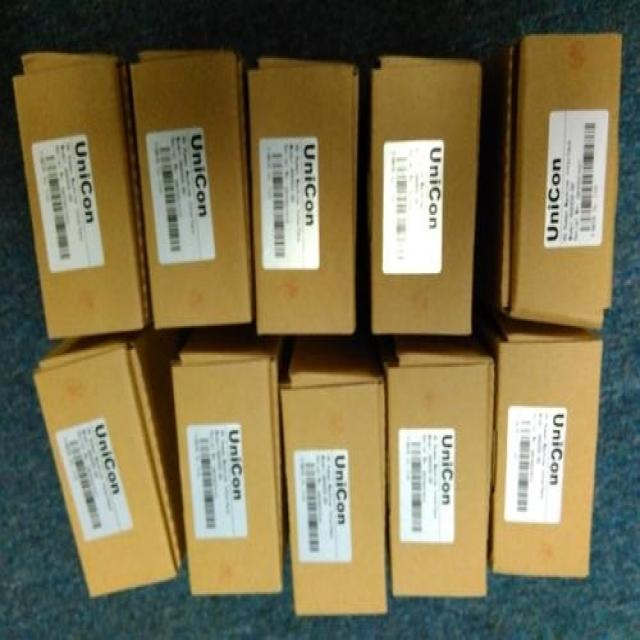box: (474, 35, 621, 333), (35, 329, 187, 599), (13, 56, 150, 342), (129, 52, 252, 330), (475, 309, 602, 576), (364, 59, 480, 333), (374, 334, 494, 594), (173, 325, 287, 595), (279, 335, 386, 617), (246, 58, 356, 332)
